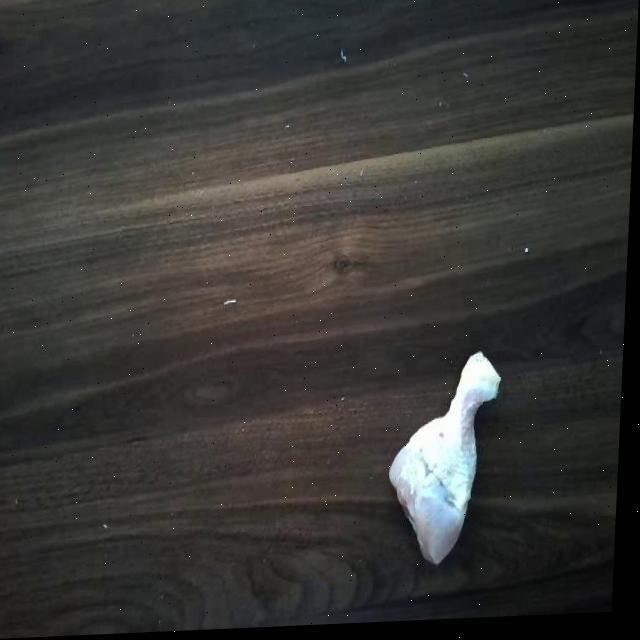leg: (386, 352, 512, 570)
